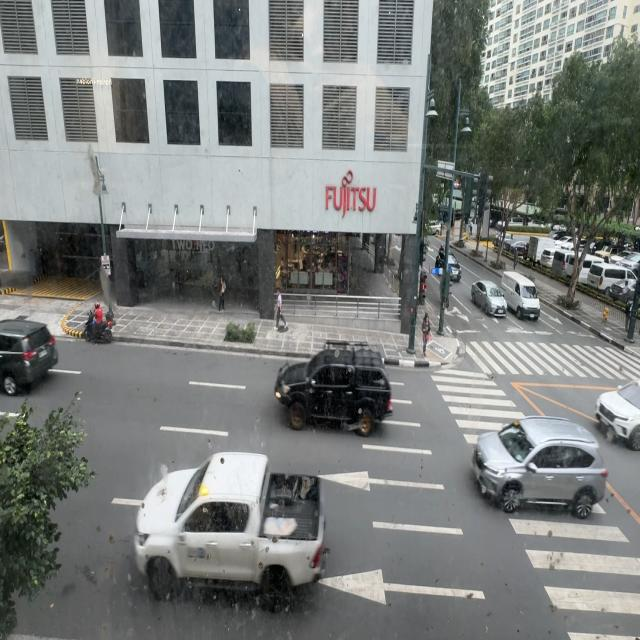waiting: (421, 313, 431, 355)
